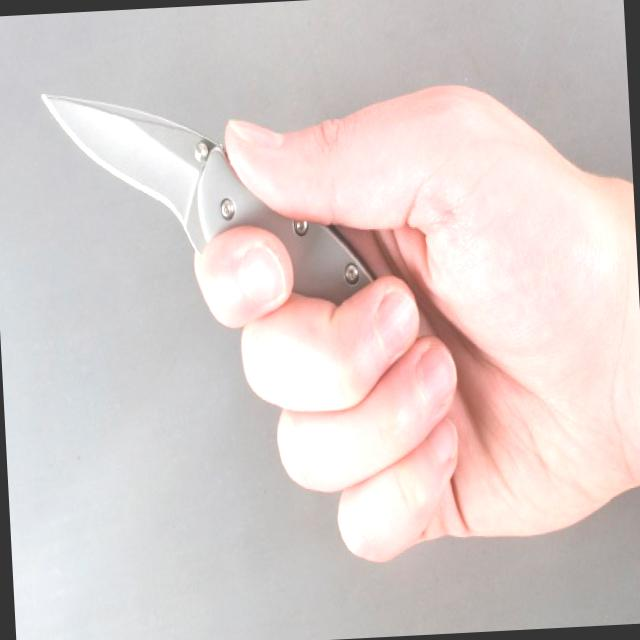knife: (32, 60, 432, 437)
